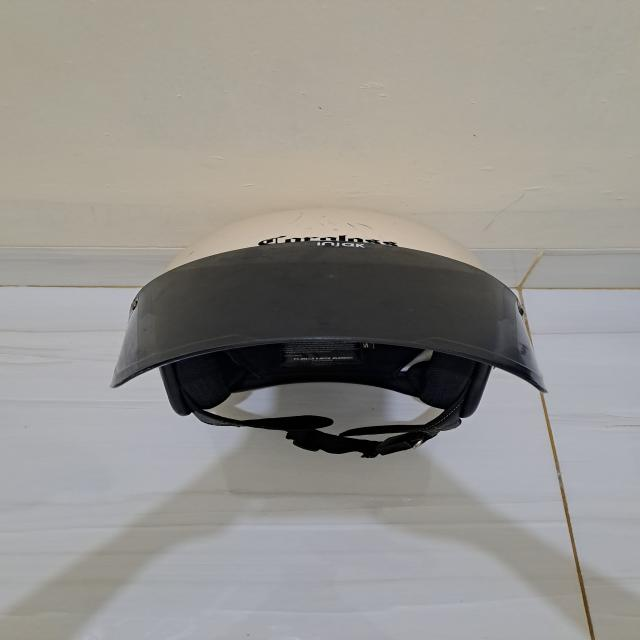Helm: (83, 200, 554, 460)
